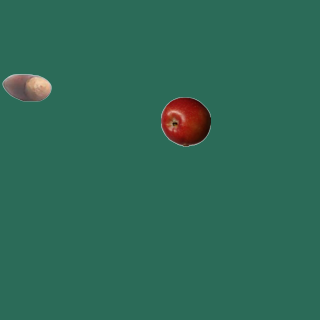Apple Braeburn: (160, 96, 210, 146)
Hazelnut: (1, 62, 51, 112)
